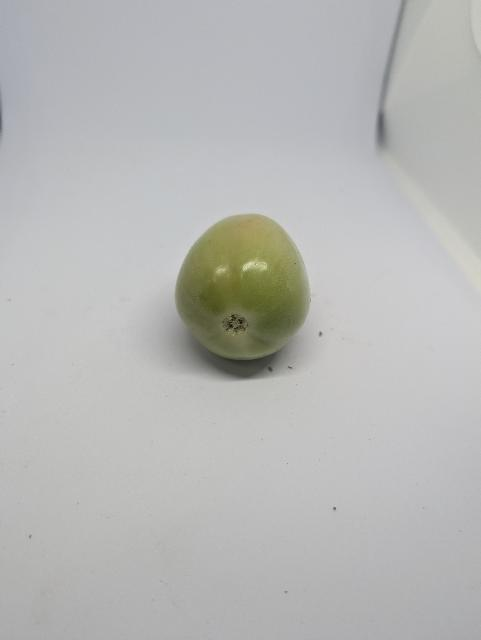green: (169, 198, 325, 373)
